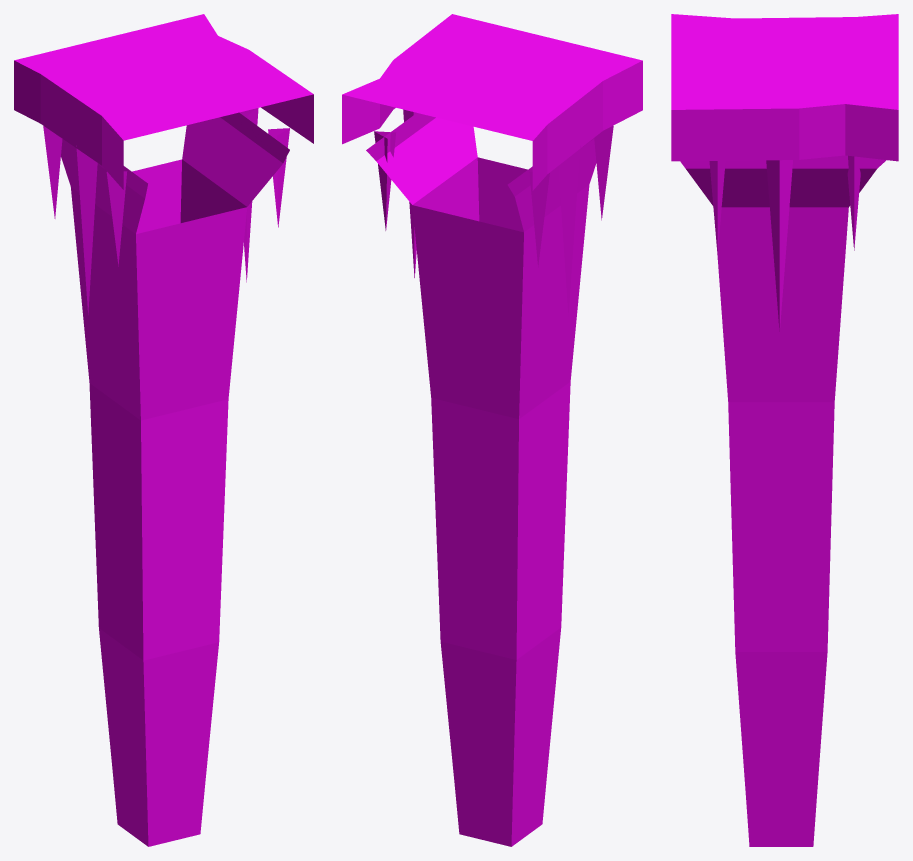
The model's file is cave bridge support.obj.
3 views of the same model, side by side, from view 1: azimuth 30°, elevation 25°; view 2: azimuth 150°, elevation 25°; view 3: azimuth 270°, elevation 25° (orthographic). The views are drawn at different scales.
Visible parts, largest first — view 1: cave bridge support_back; view 2: cave bridge support_back; view 3: cave bridge support_back.
Part boxes in pixels (<box>): cave bridge support_back: <box>14,14,313,846</box>; cave bridge support_back: <box>342,14,642,846</box>; cave bridge support_back: <box>671,14,898,846</box>.
Size of the model in its own units: 1.28 by 4.82 by 1.28.
